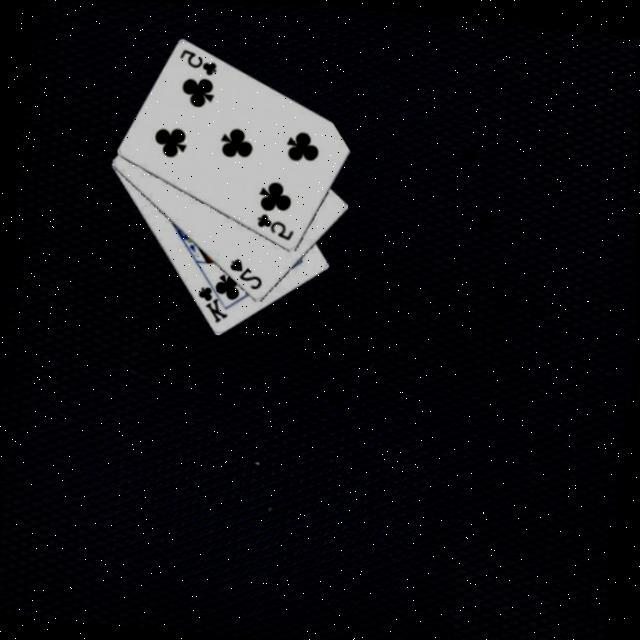2S: (222, 255, 266, 293)
5C: (173, 46, 219, 80), (252, 209, 296, 244)
KC: (191, 275, 233, 326)
